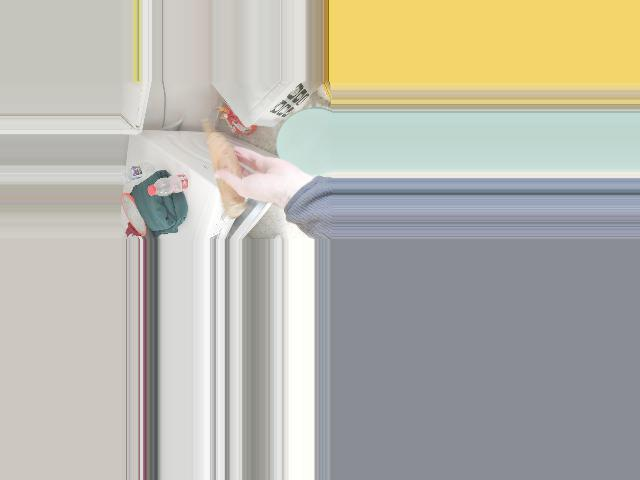sweet_potato: (198, 121, 249, 212)
